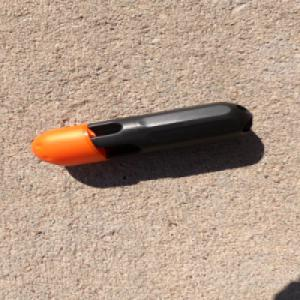PlasticPart: (29, 101, 254, 166)
